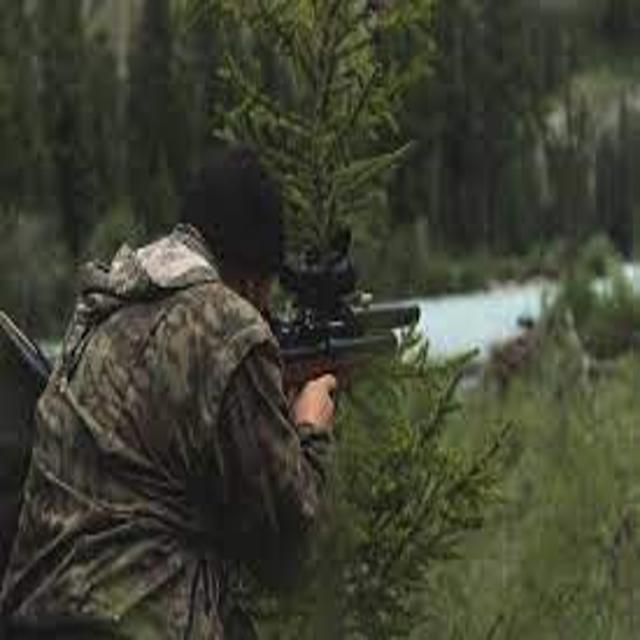gun: (201, 248, 458, 427)
poacher: (4, 124, 402, 640)
